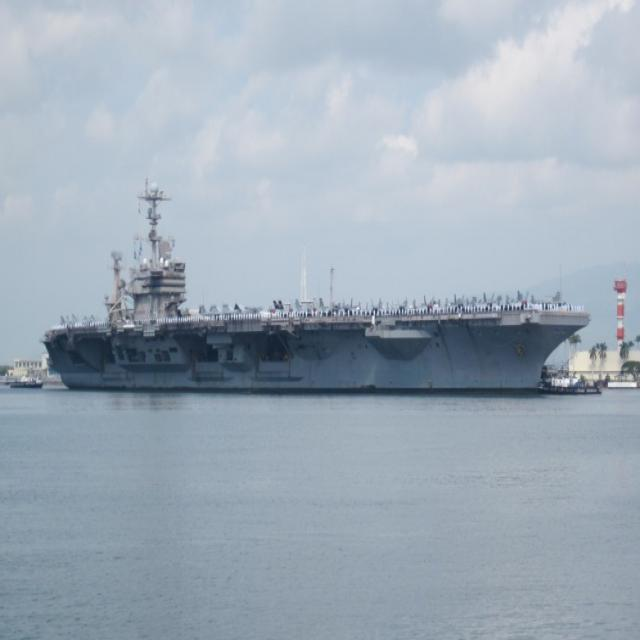Portanaves: (42, 174, 594, 399)
